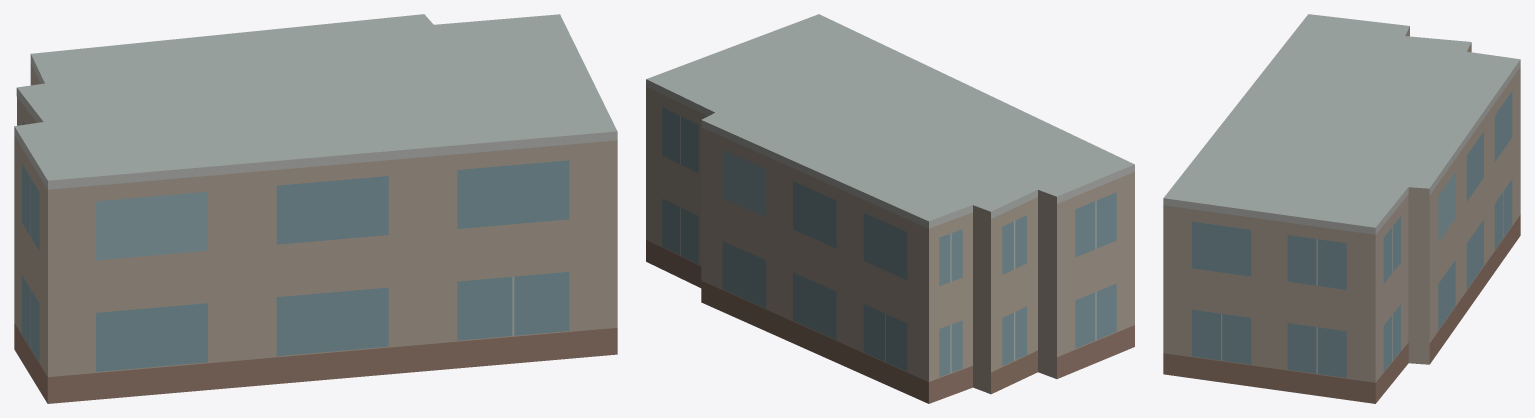
Rendered from survey-upis-33045037.glb.
3 renders of one model, left to right at view 1: azimuth 30°, elevation 25°; view 2: azimuth 150°, elevation 25°; view 3: azimuth 270°, elevation 25°, orthographic. The views are drawn at different scales.
Visible parts, largest first — view 1: survey-upis-33045037.tmp; view 2: survey-upis-33045037.tmp; view 3: survey-upis-33045037.tmp.
Boxes of the visible parts, <box> form: survey-upis-33045037.tmp: <box>14,14,617,403</box>; survey-upis-33045037.tmp: <box>646,14,1134,403</box>; survey-upis-33045037.tmp: <box>1163,14,1520,403</box>.
Size of the model in its own units: 15.89 by 6.1 by 11.23.
